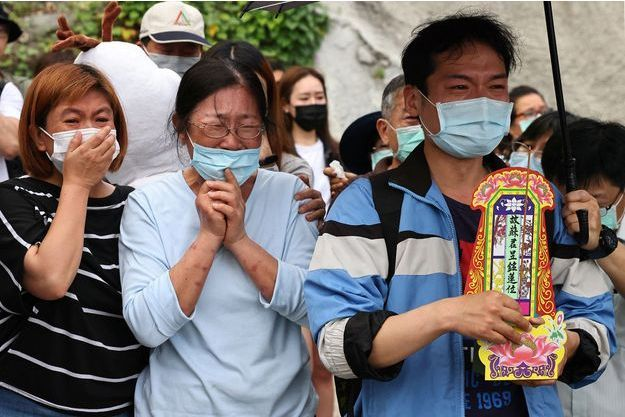with_incorrect_mask: (200, 100, 260, 184)
with_mask: (434, 60, 513, 162), (49, 98, 122, 181)
